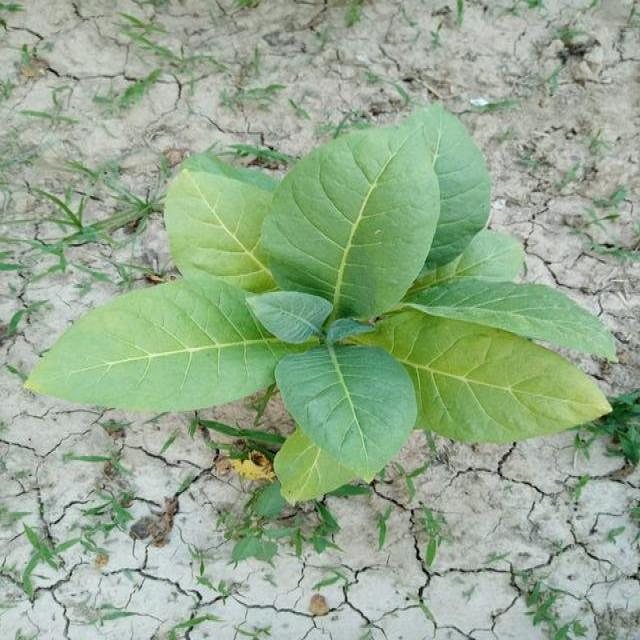crop: (21, 126, 622, 505)
